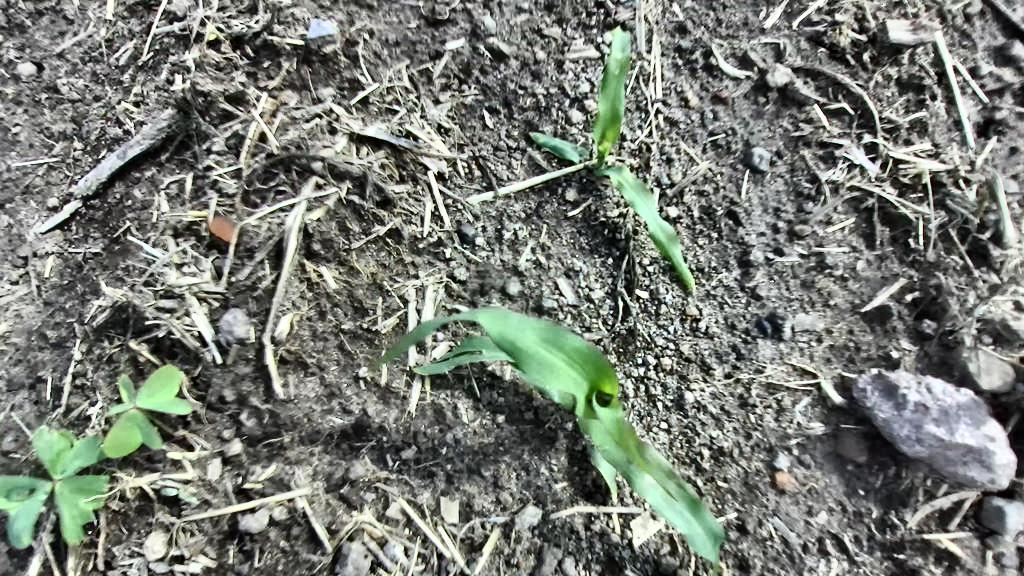BroWeed: (0, 424, 112, 551), (86, 359, 201, 462), (811, 378, 868, 426), (159, 484, 202, 507), (169, 252, 188, 268), (685, 94, 700, 111), (680, 88, 694, 101), (440, 300, 454, 310), (206, 30, 217, 40)
Maize: (364, 252, 792, 576), (508, 23, 697, 323)
